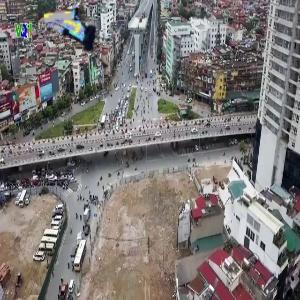drone: (48, 3, 130, 85)
